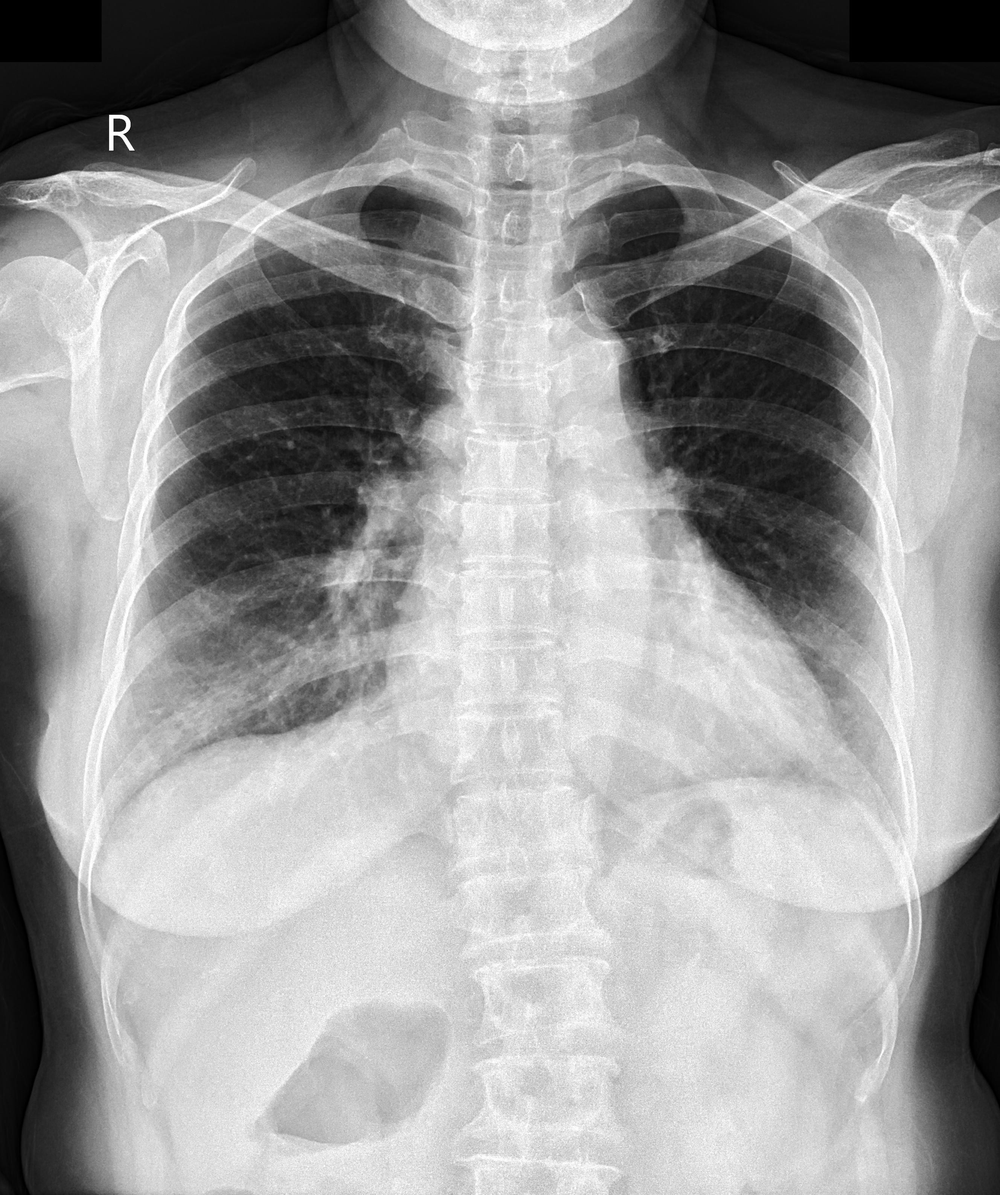Cardiomegaly: (373, 597, 839, 782)
